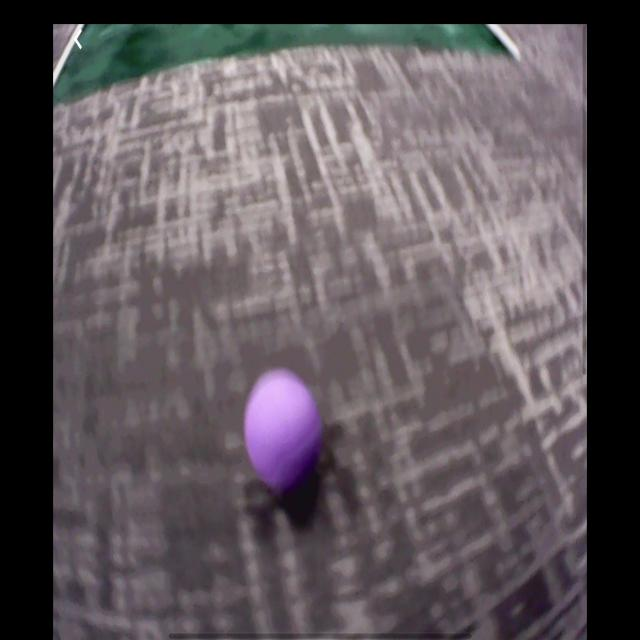ball: (248, 374, 326, 495)
